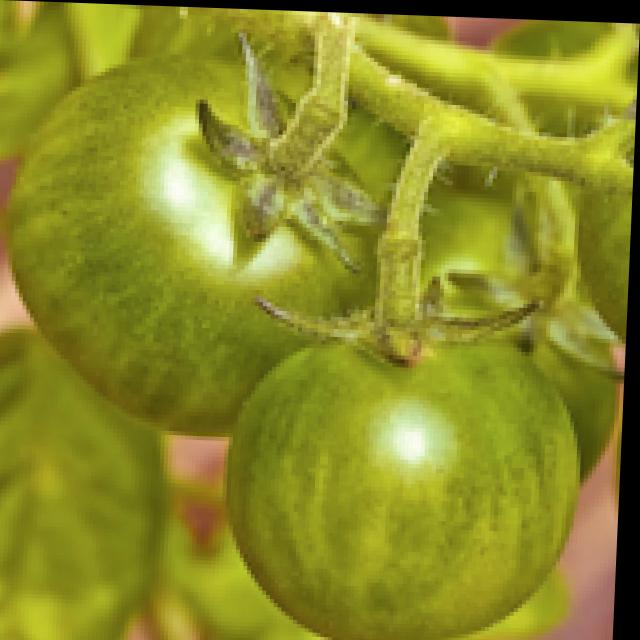yesil: (0, 53, 605, 623)
